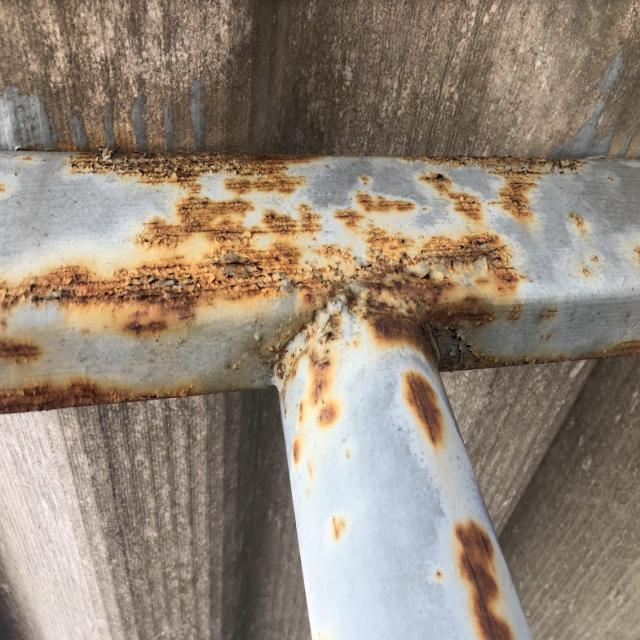Corrosion: (0, 151, 640, 465), (0, 376, 274, 414), (445, 510, 523, 640), (405, 370, 442, 446), (536, 307, 559, 340), (583, 253, 600, 274), (569, 211, 585, 232), (331, 515, 344, 538), (344, 336, 362, 350), (361, 173, 374, 190), (0, 176, 6, 198), (344, 446, 352, 460), (307, 460, 314, 474), (635, 244, 640, 262), (436, 569, 442, 578)
